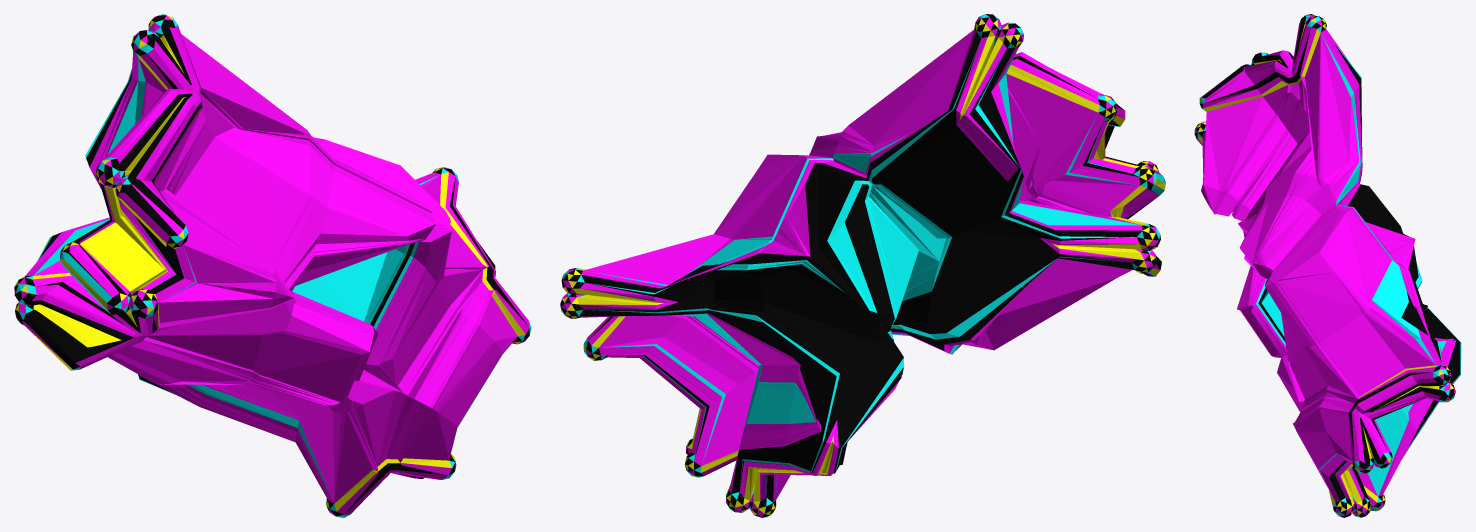
The model's file is _gpu-export.obj.
3 renders of one model, left to right at view 1: azimuth 30°, elevation 25°; view 2: azimuth 150°, elevation 25°; view 3: azimuth 270°, elevation 25°, orthographic. The views are drawn at different scales.
Visible parts, largest first — view 1: CM1, CK1, CC1, CY1; view 2: CM1, CK1, CC1, CY1; view 3: CM1, CK1, CC1, CY1.
Part boxes in pixels (x1,y1,x2,y2): CM1: (14,15,529,515); CK1: (14,15,529,516); CC1: (16,14,531,517); CY1: (14,15,525,517); CM1: (561,14,1165,517); CK1: (560,14,1165,517); CC1: (561,14,1165,517); CY1: (562,18,1165,515); CM1: (1194,15,1458,517); CK1: (1194,14,1460,517); CC1: (1194,15,1461,517); CY1: (1196,15,1453,516).
Bounding box in the file's own units: 212 × 206 × 120.
